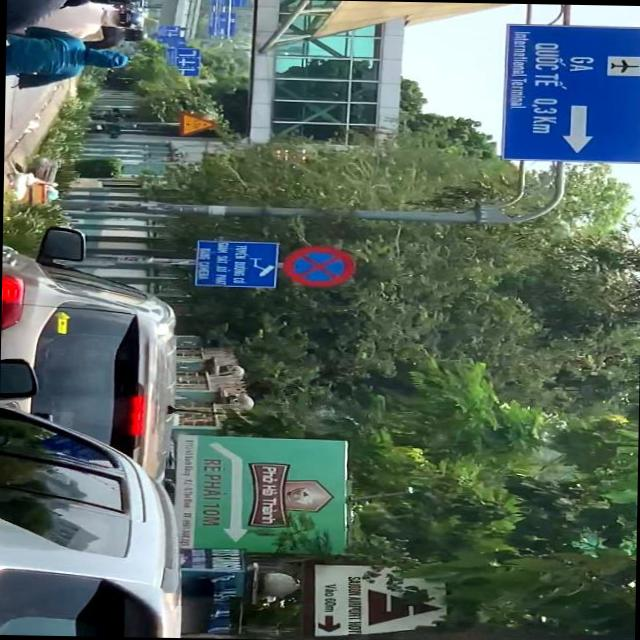P-130: (282, 246, 353, 286)
